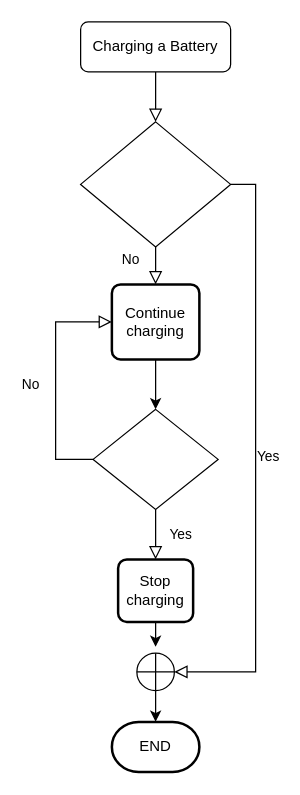
Some shapes in this 300 by 795 pixel diagram are drawn without their labels. The box of each missing label's shape, as (x1, y1, x2, y2) in pixels:
Does BMS limit charging voltage?: (79, 121, 231, 247)
V ≥ OVP: (92, 408, 218, 509)
